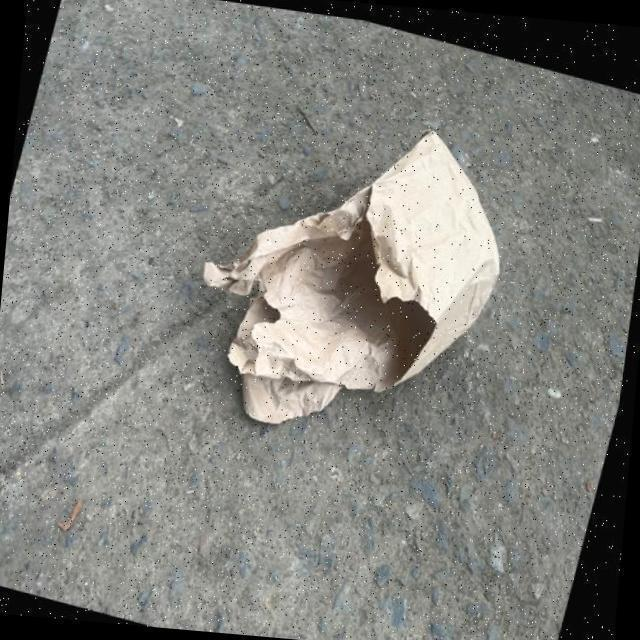Paper_Bag: (170, 78, 530, 471)
